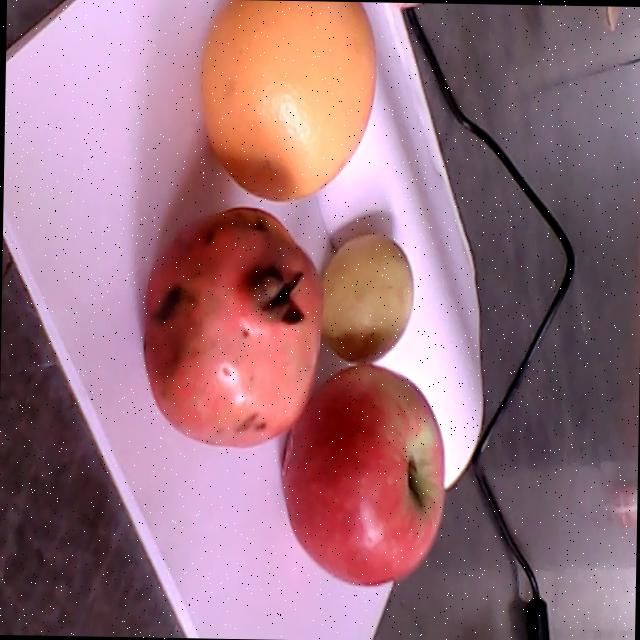apple: (281, 363, 442, 584)
lemon: (321, 228, 414, 367)
orange: (200, 1, 375, 202)
pomegranate: (140, 207, 322, 446)
